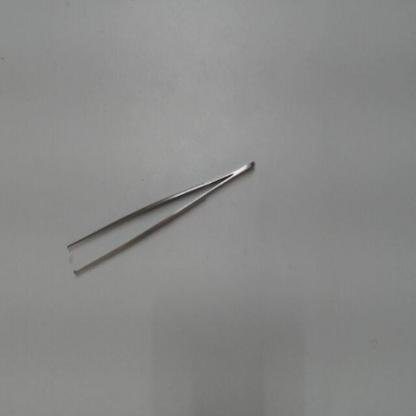Gillies Toothed Dissector: (56, 157, 262, 283)
